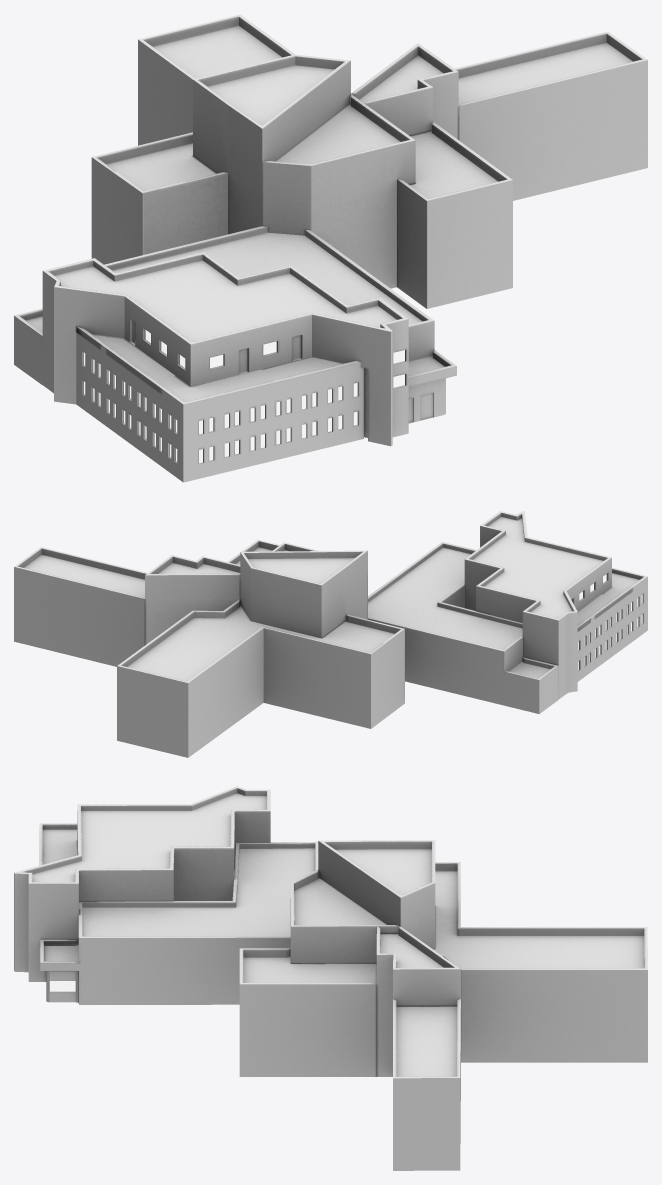
The model's file is kavala_building09.glb.
3 renders of one model, top to bottom at view 1: azimuth 30°, elevation 25°; view 2: azimuth 150°, elevation 25°; view 3: azimuth 270°, elevation 25°, orthographic. The views are drawn at different scales.
Parts seen in each view (by area): view 1: building_v006; view 2: building_v006; view 3: building_v006.
Boxes of the visible parts, bbox=[...] form: building_v006: bbox=[14, 14, 647, 482]; building_v006: bbox=[14, 511, 647, 757]; building_v006: bbox=[14, 786, 647, 1170].
Bounding box in the file's own units: 7.96 × 1.95 × 7.44.
Materials: 2 (1 with a texture image).
